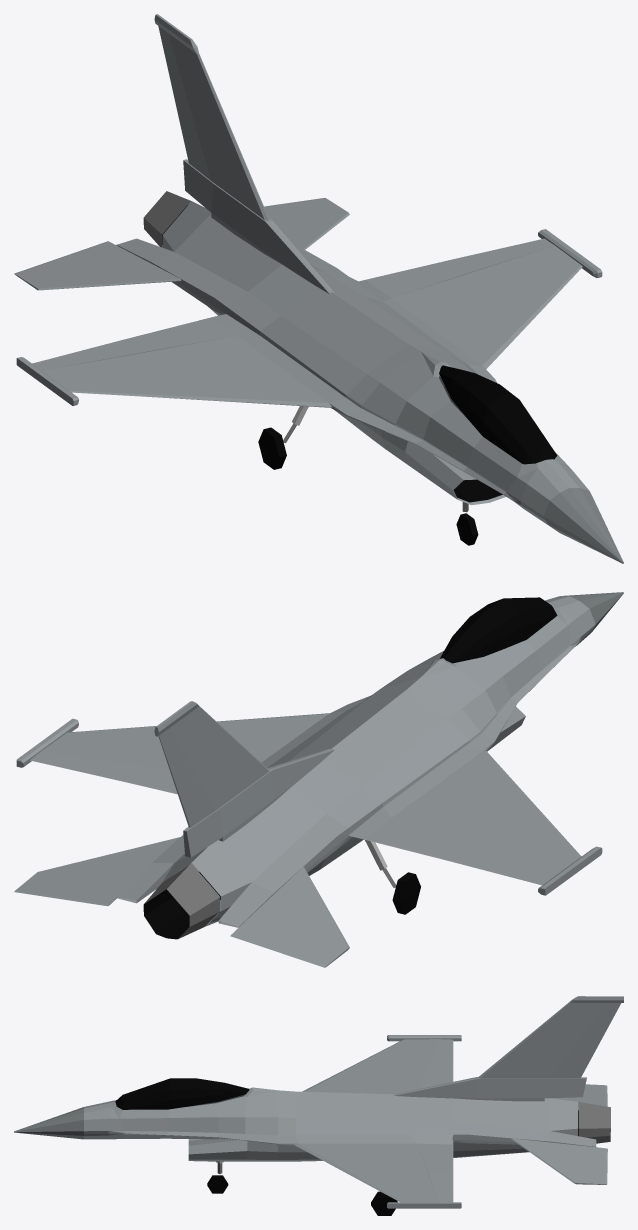
3 views of the same model, one above another, from view 1: azimuth 30°, elevation 25°; view 2: azimuth 150°, elevation 25°; view 3: azimuth 270°, elevation 25° (orthographic). The views are drawn at different scales.
Parts seen in each view (by area): view 1: body.004, windshield.004, R_Elevator.004, R_Flap.004, L_Elevator.004, L_Flap.004, Circle.016, Landing gear_RR.004; view 2: body.004, R_Elevator.004, L_Elevator.004, windshield.004, R_Flap.004, Circle.016, L_Flap.004, Landing gear_RR.004, R_ailerone.004, L_ailerone.004; view 3: body.004, windshield.004, L_Elevator.004, Circle.016, L_Flap.004, R_Flap.004, R_Elevator.004, Landing gear_RL.004, Landing gear_F.004, L_ailerone.004.
Boxes of the visible parts, x1,y1,x2,y2 form: body.004: (16,14,623,563); windshield.004: (439,365,557,464); R_Elevator.004: (14,241,181,290); R_Flap.004: (83,317,236,360); L_Elevator.004: (264,198,349,249); L_Flap.004: (365,250,506,297); Circle.016: (158,26,210,180); Landing gear_RR.004: (258,406,308,469); body.004: (16,592,623,939); R_Elevator.004: (230,867,349,967); L_Elevator.004: (14,837,179,906); windshield.004: (440,597,557,663); R_Flap.004: (364,818,506,871); Circle.016: (158,727,215,827); L_Flap.004: (83,760,177,794); Landing gear_RR.004: (365,840,420,914); R_ailerone.004: (491,859,553,885); L_ailerone.004: (30,751,98,772); body.004: (14,996,623,1208); windshield.004: (115,1078,249,1109); L_Elevator.004: (511,1138,607,1184); Circle.016: (550,1003,621,1078); L_Flap.004: (418,1143,453,1185); R_Flap.004: (420,1055,453,1088); R_Elevator.004: (548,1084,607,1106); Landing gear_RL.004: (371,1191,397,1215); Landing gear_F.004: (207,1161,228,1193); L_ailerone.004: (433,1185,453,1202).
Bounding box in the file's own units: 866 × 470 × 1324.
